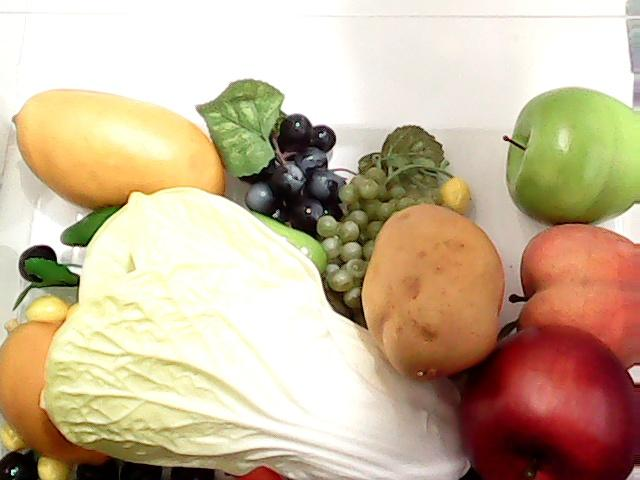apple: (456, 328, 640, 480), (500, 76, 640, 228)
carrot: (223, 451, 287, 480)
grape: (318, 162, 429, 316), (232, 109, 348, 242)
lemon: (0, 316, 112, 468)
mango: (7, 87, 234, 205)
napa cabbage: (35, 190, 489, 478)
peach: (508, 222, 640, 374)
pepper: (54, 184, 330, 284)
potato: (356, 202, 509, 387)
